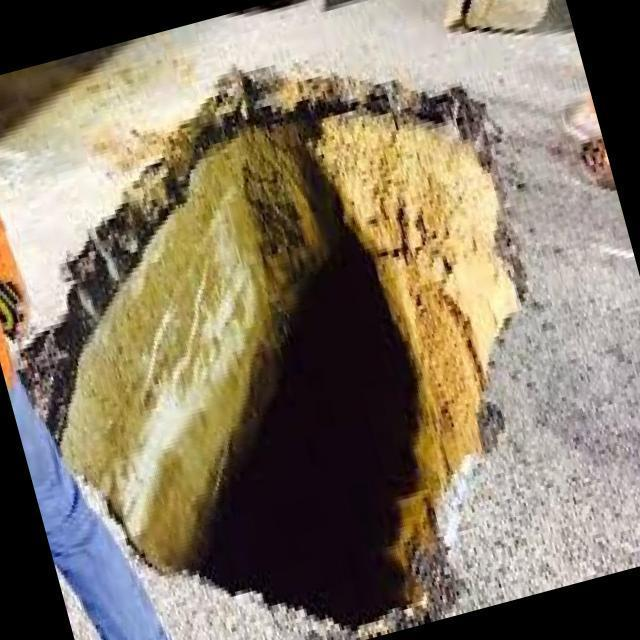-: (34, 69, 521, 632)
